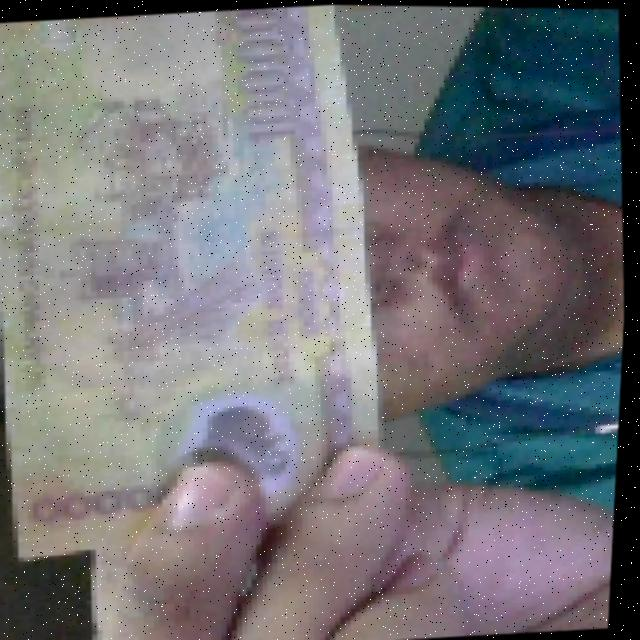10 000 VND: (0, 0, 412, 570)
